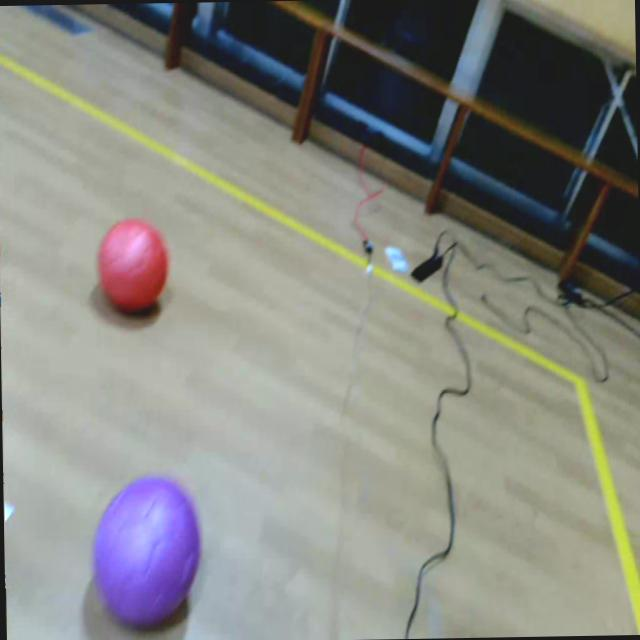purple_ball: (91, 475, 202, 627)
red_ball: (100, 216, 168, 312)
